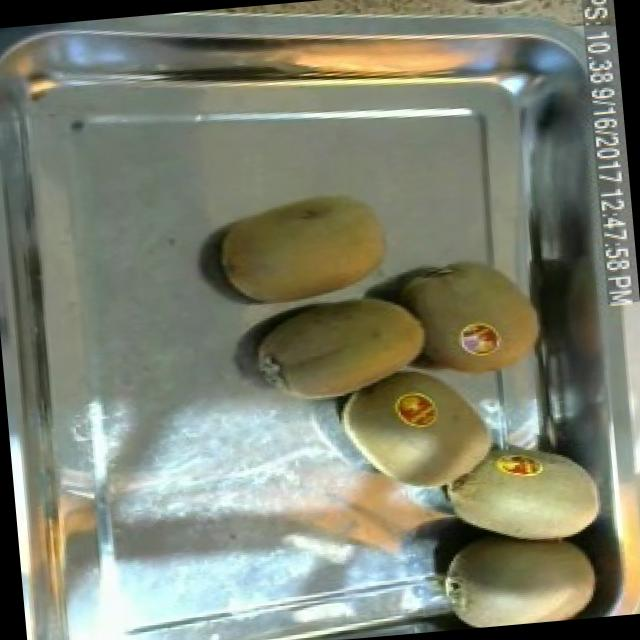Fruit: (202, 177, 403, 319), (240, 276, 442, 416), (326, 368, 510, 512), (430, 421, 620, 548), (424, 524, 622, 632)
